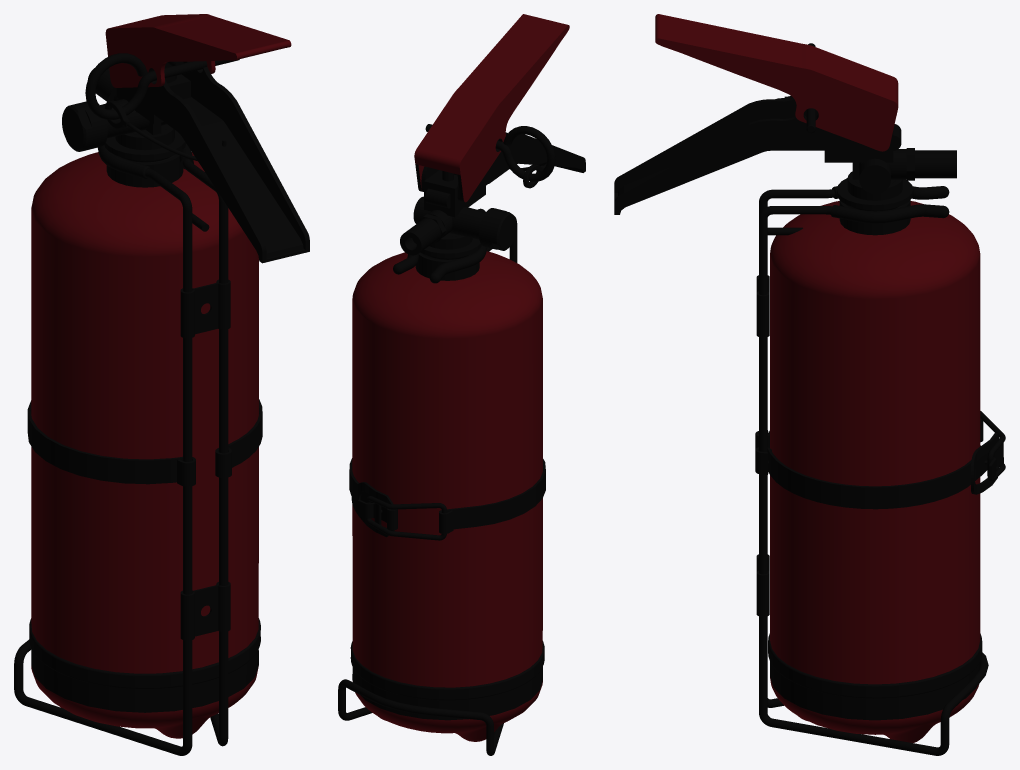
The model's file is fire_extinguisher.dae.
3 views of the same model, side by side, from view 1: azimuth 30°, elevation 25°; view 2: azimuth 150°, elevation 25°; view 3: azimuth 270°, elevation 25° (orthographic). The views are drawn at different scales.
Parts seen in each view (by area): view 1: FIRE_EXTINGUISHER_2KG v3.001; view 2: FIRE_EXTINGUISHER_2KG v3.001; view 3: FIRE_EXTINGUISHER_2KG v3.001.
Boxes of the visible parts, bbox=[...] form: FIRE_EXTINGUISHER_2KG v3.001: bbox=[14, 14, 309, 755]; FIRE_EXTINGUISHER_2KG v3.001: bbox=[338, 14, 585, 755]; FIRE_EXTINGUISHER_2KG v3.001: bbox=[614, 14, 1005, 755].
Bounding box in the file's own units: 1.14 × 2.05 × 4.
